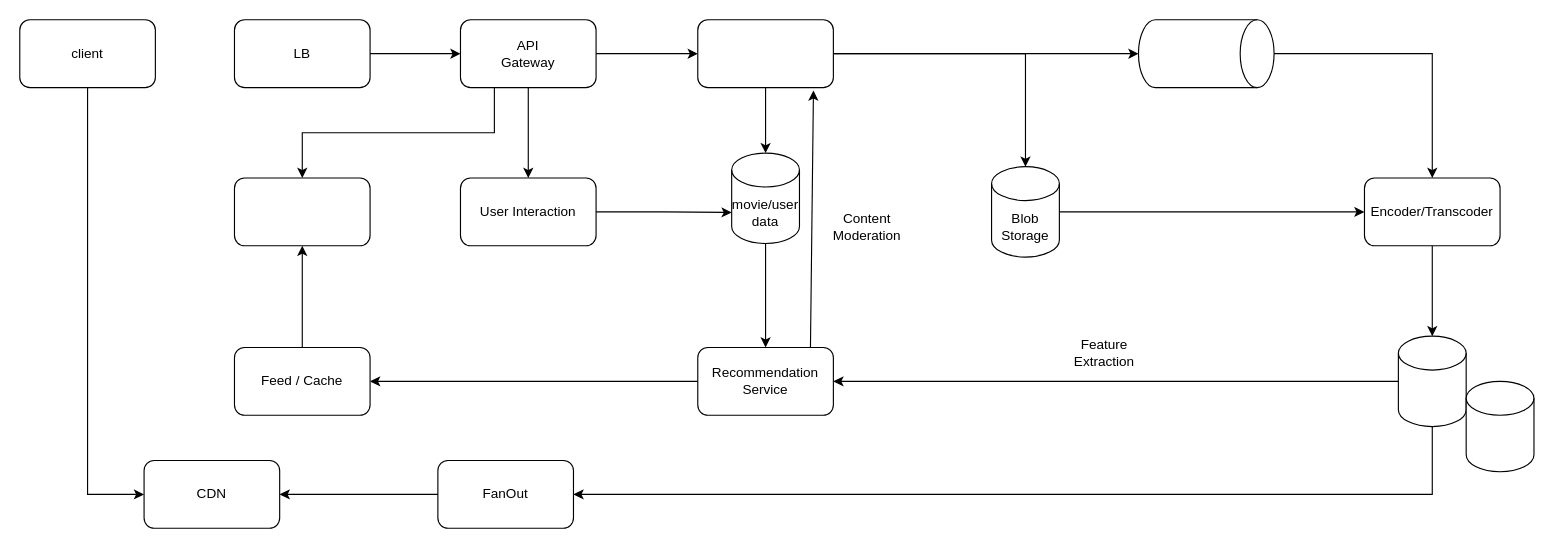
Image size: 1555x548. Some labels were removed from this diagram. The shapes that lost their labels are listed below. From the top down, each one's centre as x and y in pixels, then its label:
At point 765,53: "Video Upload".
At point 1205,53: "Queue".
At point 301,211: "Video Streaming Service".
At point 1431,381: "Video Storage".
At point 1499,426: "Thumnbnail".
